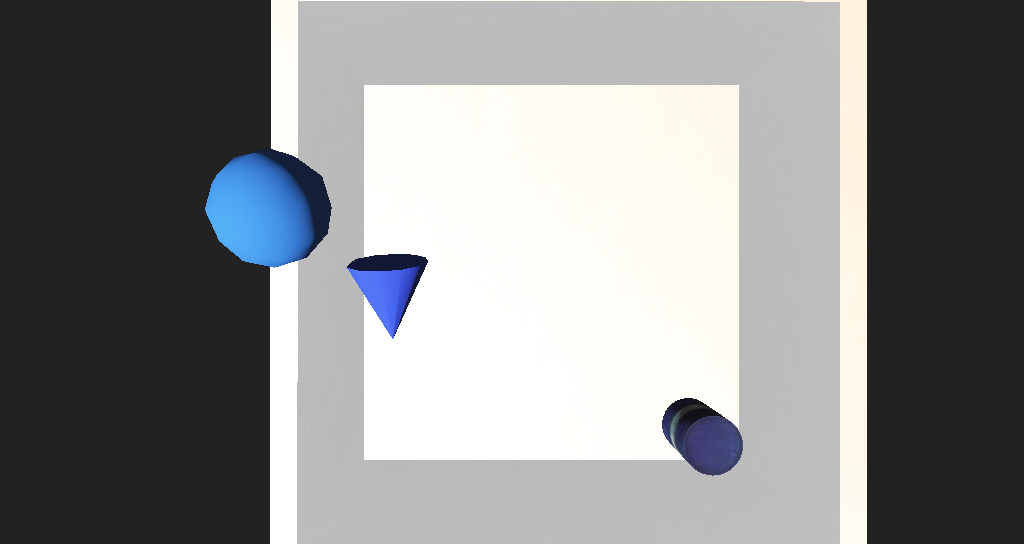cone: (596, 341, 657, 384)
cylinder: (340, 258, 414, 315)
sphere: (246, 208, 333, 270)
